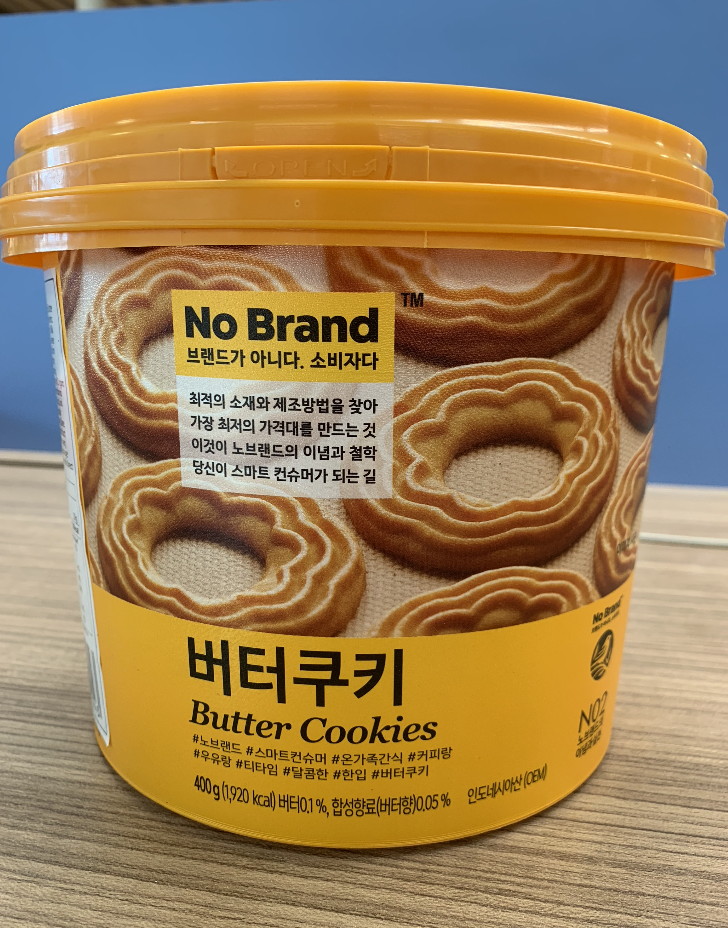cookies_400g-499g: (114, 268, 608, 791)
